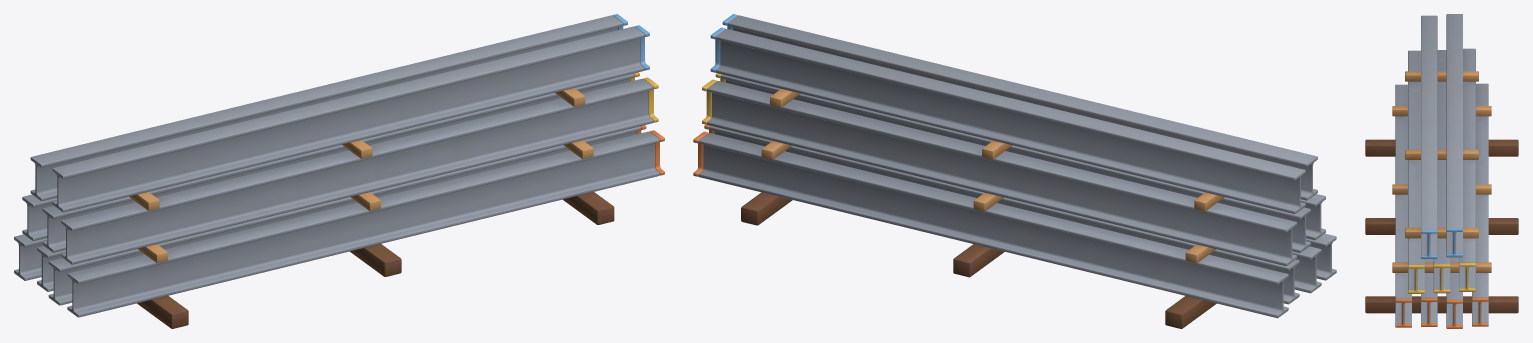
The model's file is steel-beam-stack.glb.
3 views of the same model, side by side, from view 1: azimuth 30°, elevation 25°; view 2: azimuth 150°, elevation 25°; view 3: azimuth 270°, elevation 25° (orthographic). The views are drawn at different scales.
Parts seen in each view (by area): view 1: steel-beam-stack_body; view 2: steel-beam-stack_body; view 3: steel-beam-stack_body.
Part boxes in pixels (left/top/right/bottom): steel-beam-stack_body: left=14, top=14, right=664, bottom=328; steel-beam-stack_body: left=693, top=14, right=1336, bottom=328; steel-beam-stack_body: left=1365, top=14, right=1518, bottom=328.
Size of the model in its own units: 4.04 by 0.9397 by 1.2.
1 material, 1 textured.
